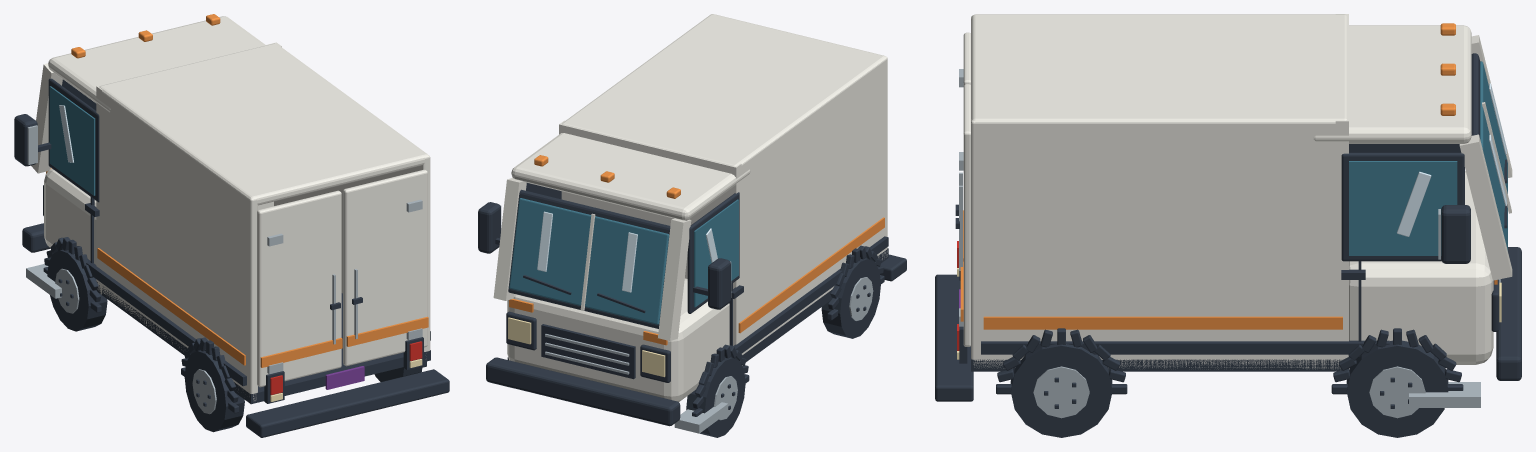
File: fedup_van.glb
3 renders of one model, left to right at view 1: azimuth 30°, elevation 25°; view 2: azimuth 150°, elevation 25°; view 3: azimuth 270°, elevation 25°, orthographic. The views are drawn at different scales.
Visible parts, largest first — view 1: Van_Paint_WarmWhite, Van_Outline_Charcoal, Rolling_RearDoorPivot_L, Rolling_RearDoorPivot_R, Van_Glass_GraphicBlue, Rolling_WheelPivot_Rear_L, Rolling_WheelPivot_Front_L, Van_Brand_Orange, Van_Metal_Silver, Van_Brand_Purple, Van_TailLamp_Red; view 2: Van_Paint_WarmWhite, Van_Outline_Charcoal, Van_Glass_GraphicBlue, Rolling_WheelPivot_Rear_L, Van_Brand_Orange, Rolling_WheelPivot_Front_L, Van_Metal_Silver, Van_Glass_Highlight, Van_Headlamp_Cream; view 3: Van_Paint_WarmWhite, Van_Outline_Charcoal, Van_Glass_GraphicBlue, Rolling_WheelPivot_Rear_R, Rolling_WheelPivot_Front_R, Van_Brand_Orange, Rolling_RearDoorPivot_R, Van_Metal_Silver, Van_Glass_Highlight, Rolling_RearDoorPivot_L.
Part boxes in pixels (x1,y1,x2,y2): Van_Paint_WarmWhite: (31, 16, 430, 400); Van_Outline_Charcoal: (14, 78, 449, 437); Rolling_RearDoorPivot_L: (257, 190, 342, 387); Rolling_RearDoorPivot_R: (343, 169, 428, 366); Van_Glass_GraphicBlue: (49, 86, 95, 195); Rolling_WheelPivot_Rear_L: (184, 350, 244, 432); Rolling_WheelPivot_Front_L: (47, 249, 107, 331); Van_Brand_Orange: (46, 14, 245, 365); Van_Metal_Silver: (26, 125, 422, 374); Van_Brand_Purple: (325, 366, 364, 389); Van_TailLamp_Red: (270, 341, 422, 394); Van_Paint_WarmWhite: (493, 14, 887, 401); Van_Outline_Charcoal: (478, 183, 906, 426); Van_Glass_GraphicBlue: (509, 198, 738, 324); Rolling_WheelPivot_Rear_L: (821, 258, 880, 338); Van_Brand_Orange: (509, 155, 884, 345); Rolling_WheelPivot_Front_L: (686, 357, 745, 437); Van_Metal_Silver: (492, 205, 731, 433); Van_Glass_Highlight: (537, 211, 717, 292); Van_Headlamp_Cream: (508, 317, 665, 377); Van_Paint_WarmWhite: (971, 14, 1512, 369); Van_Outline_Charcoal: (935, 53, 1521, 401); Van_Glass_GraphicBlue: (1349, 61, 1507, 255); Rolling_WheelPivot_Rear_R: (1010, 344, 1112, 437); Rolling_WheelPivot_Front_R: (1346, 340, 1448, 437); Van_Brand_Orange: (983, 23, 1497, 329); Rolling_RearDoorPivot_R: (955, 84, 970, 346); Van_Metal_Silver: (959, 69, 1500, 407); Van_Glass_Highlight: (1397, 83, 1506, 236); Rolling_RearDoorPivot_L: (955, 32, 970, 261).
Bounding box in the file's own units: 3.16 × 3.13 × 5.31.
